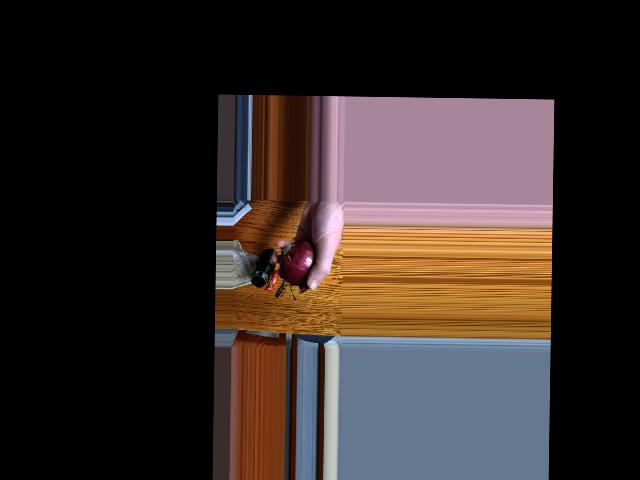onion: (283, 243, 318, 285)
